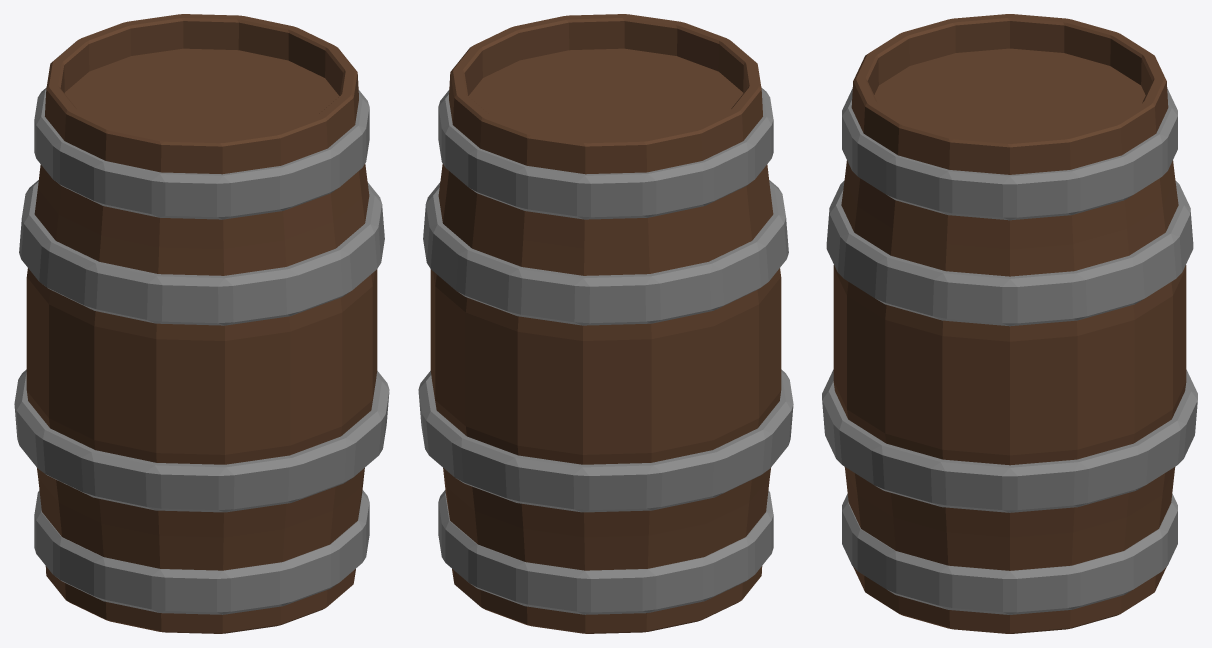
Rendered from Barrel 1.fbx.
3 renders of one model, left to right at view 1: azimuth 30°, elevation 25°; view 2: azimuth 150°, elevation 25°; view 3: azimuth 270°, elevation 25°, orthographic.
Parts seen in each view (by area): view 1: Cylinder; view 2: Cylinder; view 3: Cylinder.
Part boxes in pixels (x1,y1,x2,y2): Cylinder: (14,14,389,633); Cylinder: (418,14,793,633); Cylinder: (822,14,1197,633).
Bounding box in the file's own units: 274 × 395 × 274.
